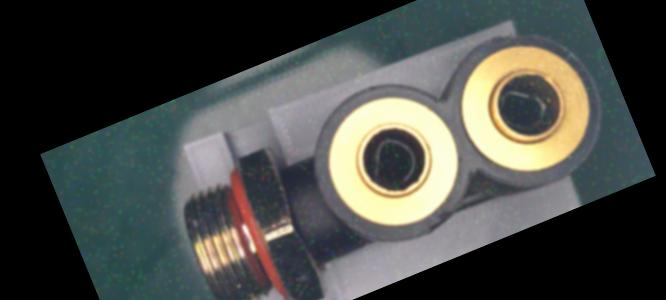bump: (494, 22, 538, 50), (422, 202, 463, 231)
joint line: (290, 201, 326, 221)
off-centered: (357, 128, 430, 195), (491, 79, 556, 140)
white mark: (294, 192, 313, 210)
